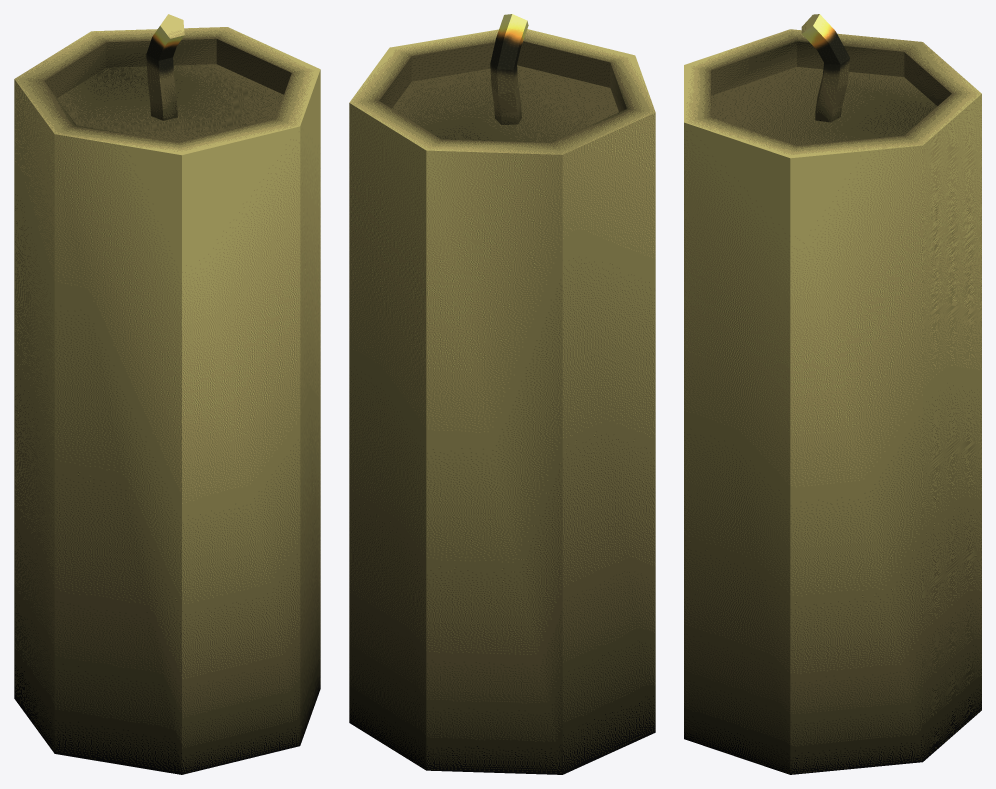
Rendered from LD56_candleTall.fbx.
3 renders of one model, left to right at view 1: azimuth 30°, elevation 25°; view 2: azimuth 150°, elevation 25°; view 3: azimuth 270°, elevation 25°, orthographic.
Parts seen in each view (by area): view 1: candleTall; view 2: candleTall; view 3: candleTall.
Boxes of the visible parts, x1,y1,x2,y2 form: candleTall: (14, 14, 320, 774); candleTall: (349, 14, 655, 774); candleTall: (684, 14, 981, 774).
Size of the model in its own units: 195 by 489 by 190.
